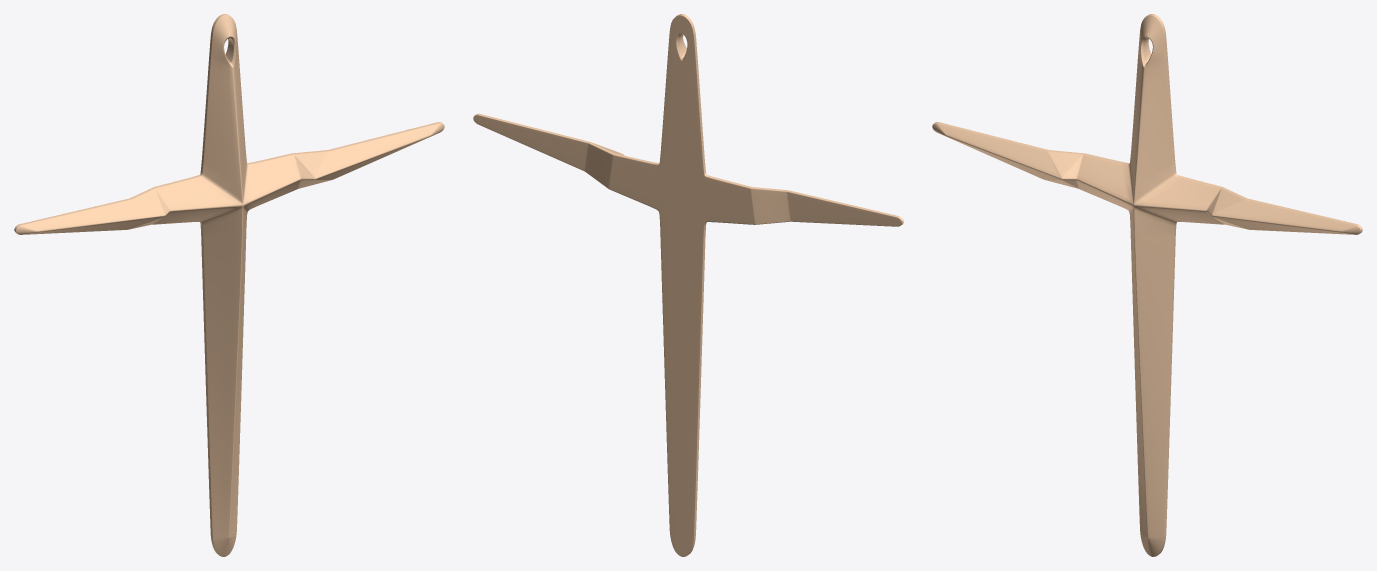
Rendered from cross.fbx.
3 renders of one model, left to right at view 1: azimuth 30°, elevation 25°; view 2: azimuth 150°, elevation 25°; view 3: azimuth 330°, elevation 25°, orthographic.
Parts seen in each view (by area): view 1: CROSS; view 2: CROSS; view 3: CROSS.
Part boxes in pixels (box(x1,y1,x2,y2)): CROSS: box(14, 14, 444, 556); CROSS: box(473, 14, 903, 556); CROSS: box(932, 14, 1362, 556).
Size of the model in its own units: 413 by 499 by 33.54.
